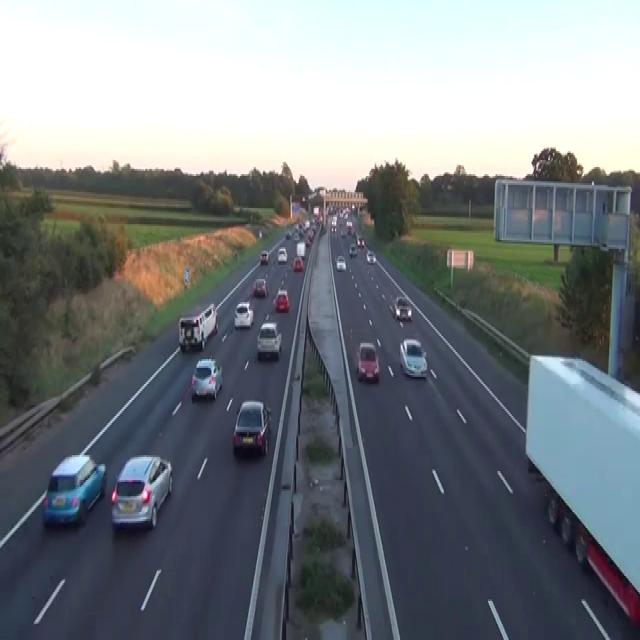Car: (545, 487, 639, 624), (110, 453, 173, 530), (41, 454, 107, 526), (232, 400, 272, 457), (191, 357, 223, 400), (399, 338, 427, 378), (256, 322, 282, 361), (178, 315, 205, 352), (356, 342, 379, 382), (199, 302, 218, 334), (233, 301, 253, 327), (394, 295, 412, 320), (273, 288, 289, 311), (253, 277, 267, 297), (292, 256, 303, 272), (336, 254, 346, 270), (259, 249, 269, 265), (277, 247, 287, 263), (296, 242, 305, 258), (366, 249, 375, 263), (348, 242, 357, 256), (388, 302, 395, 316), (356, 235, 364, 247), (346, 220, 352, 234), (331, 215, 337, 228), (293, 231, 299, 242), (304, 218, 310, 228), (285, 230, 291, 238), (340, 228, 346, 236), (331, 224, 336, 233), (318, 215, 323, 224), (305, 237, 310, 246), (258, 228, 262, 238)
Truck: (524, 354, 639, 626), (178, 302, 218, 352)
